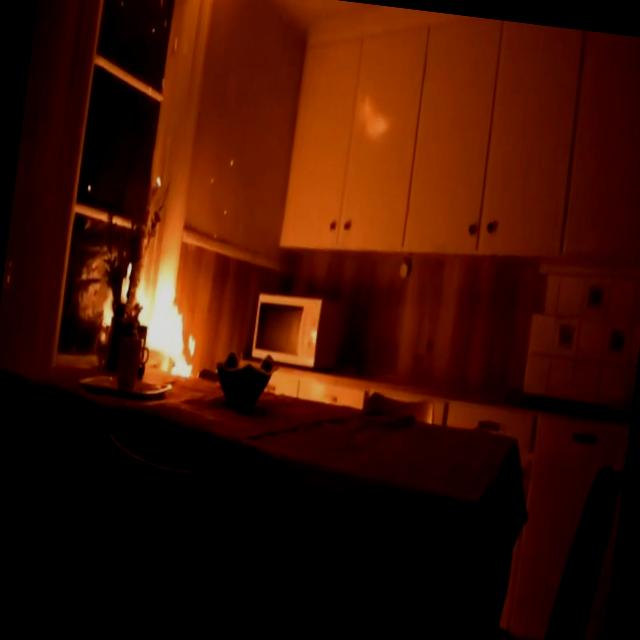fire: (78, 220, 220, 415)
